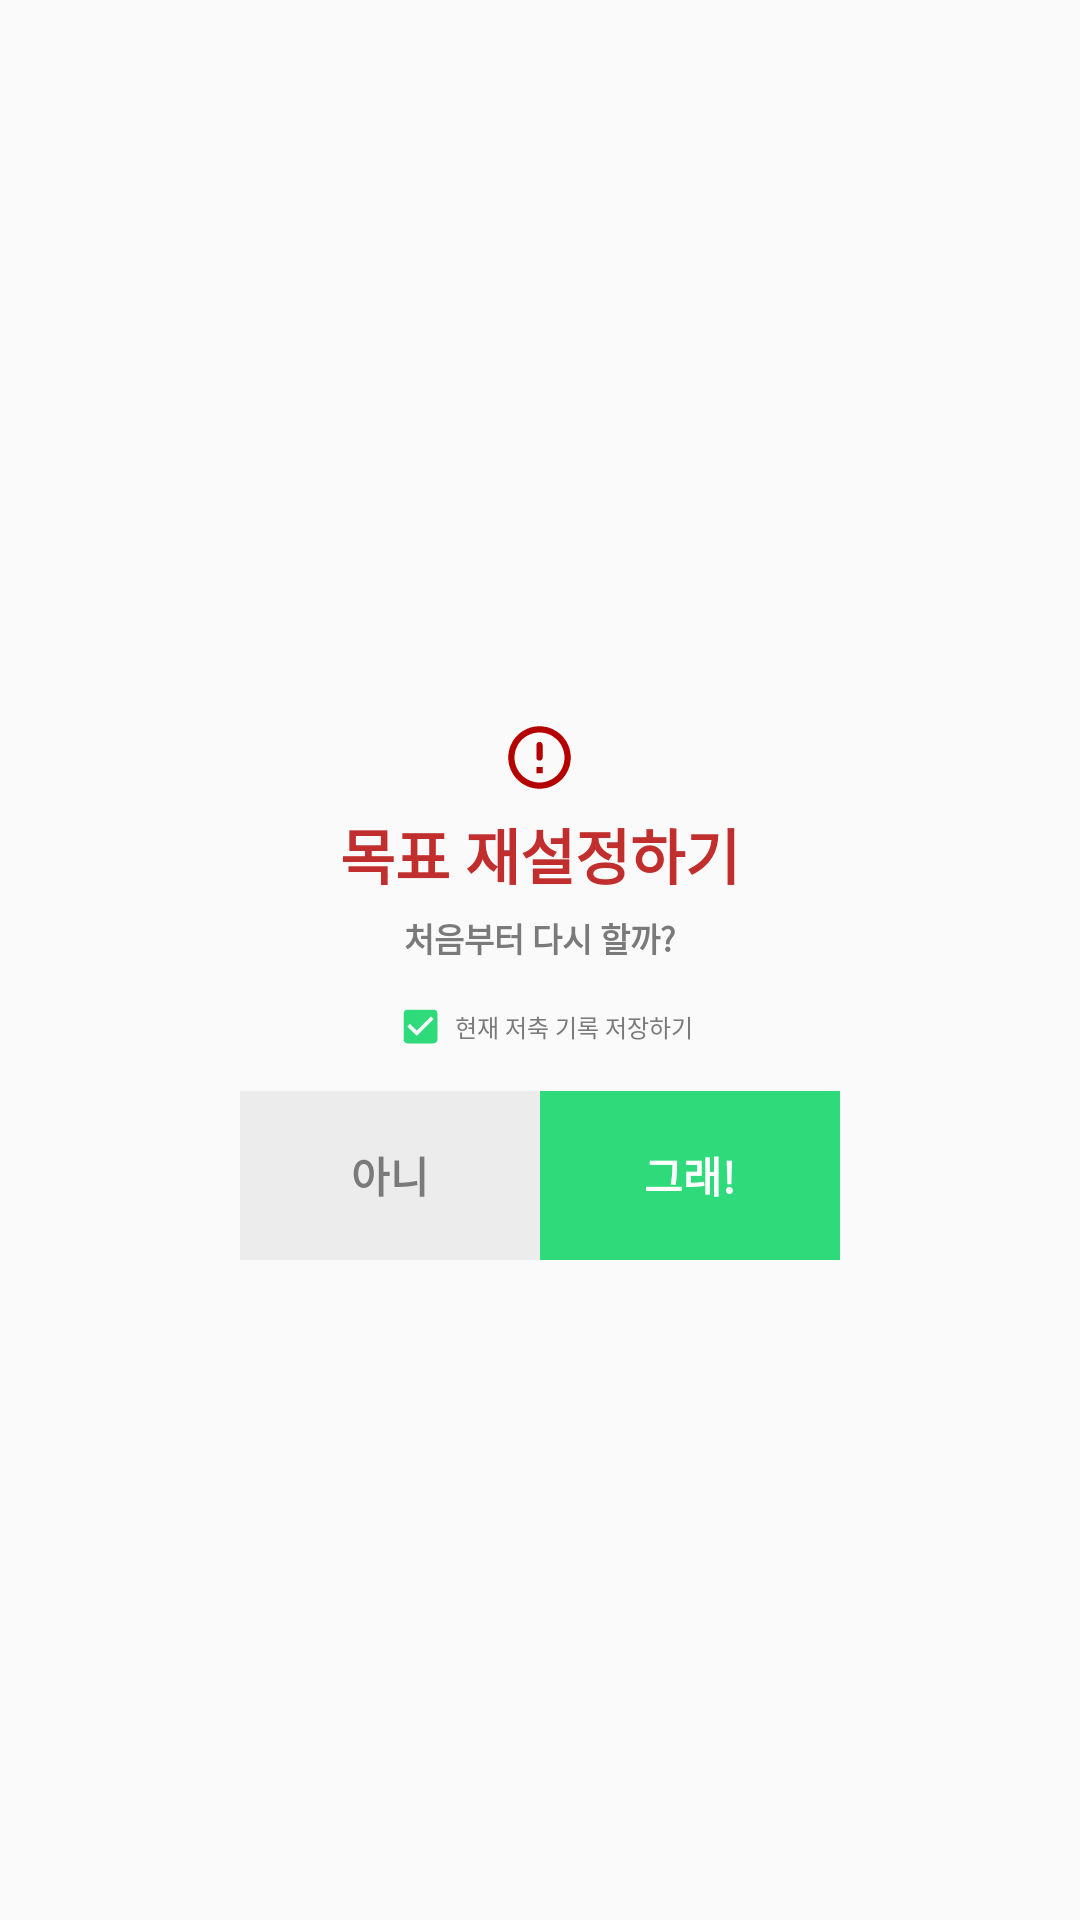

Icons on this 1080*1920 Android screen, each with its box as (x1, y1, x2, y2):
checkbox: (403, 1009, 438, 1044)
error: (508, 726, 571, 789)
